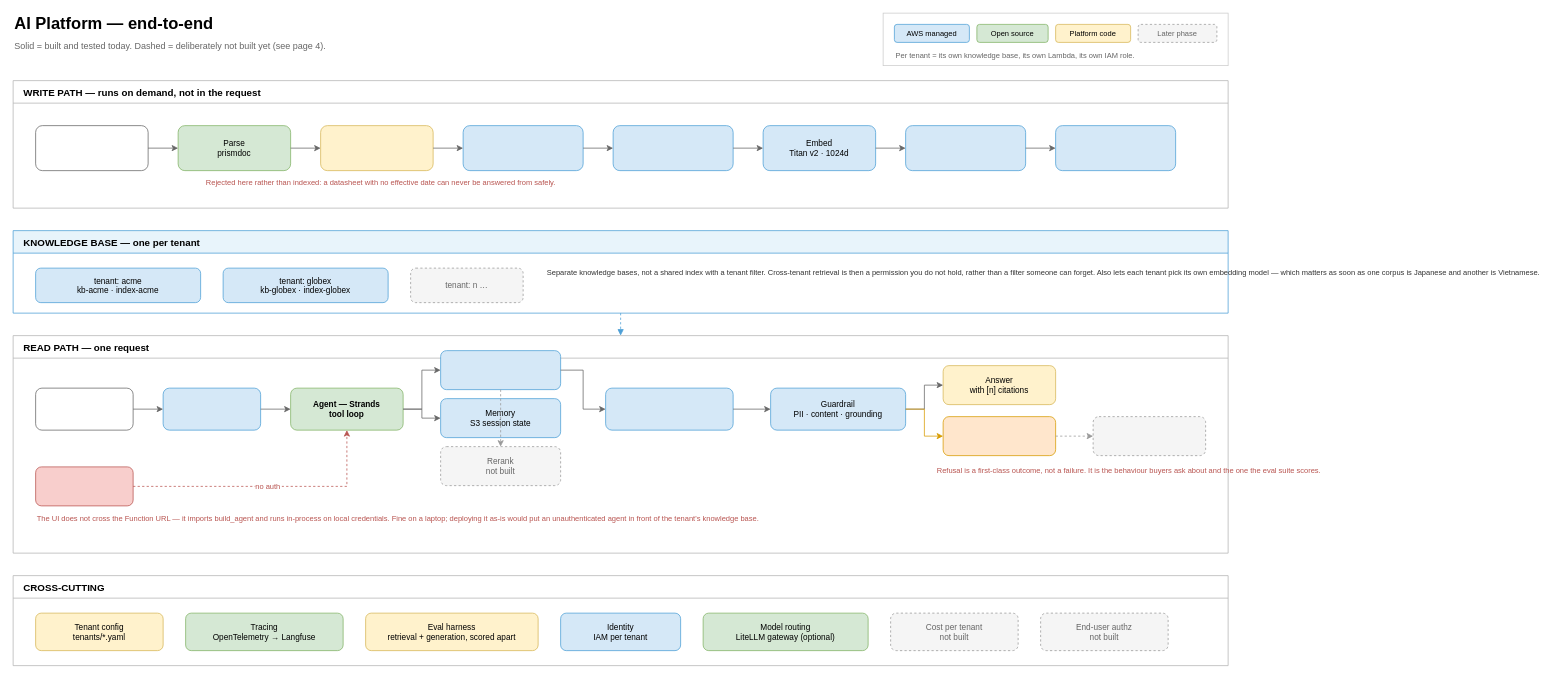
The diagram is 1553 pixels wide and 679 high, and some of its shapes have lost their labels. The shapes that lost their labels are listed below. From the top down, each one's centre as x and y in pixels, then its label:
(91,148): Documents PDF / DOCX / MD
(376,148): Metadata gate require_metadata
(522,148): Documents bucket S3 + sidecar metadata
(672,148): Chunk hierarchical 1500/300
(965,148): Vector index S3 Vectors · cosine
(1115,148): Ingestion job StartIngestionJob
(500,370): Retrieve hybrid · top-6 · ≥0.35
(84,408): Client CLI · API
(211,408): Function URL IAM · SigV4
(669,408): LLM Bedrock · prompt cache
(999,436): "I don't know" no supporting source
(1149,436): Escalate to a human not built
(84,486): Chat UI — Chainlit local only
